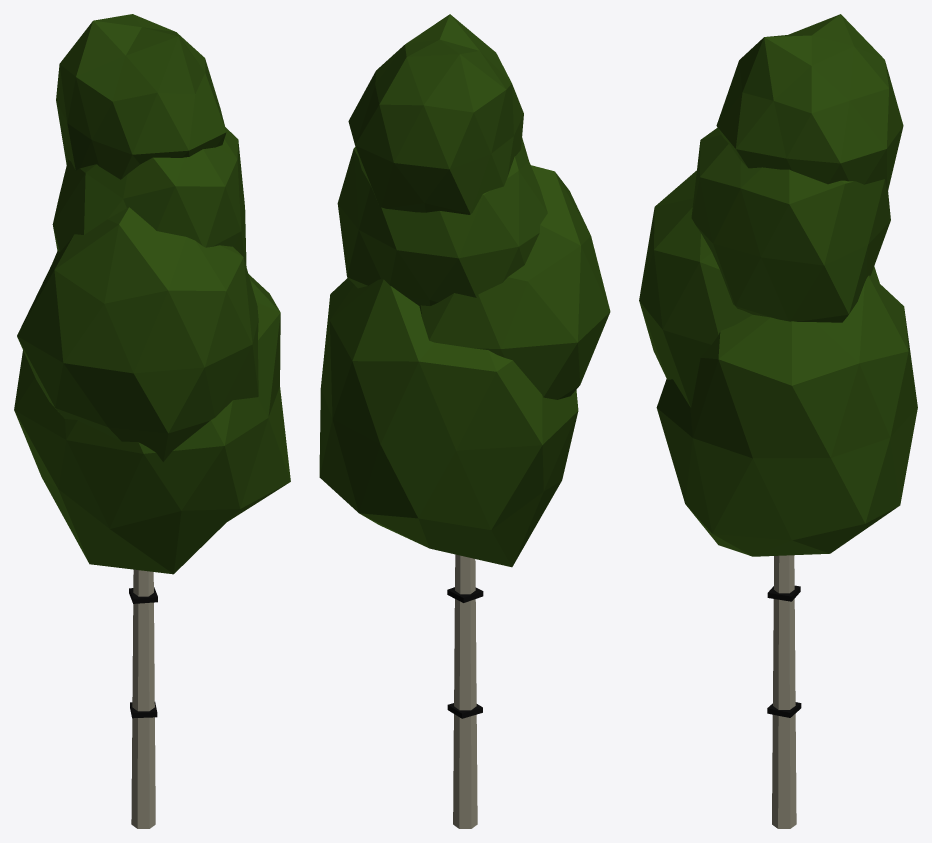
File: tree_birch.fbx
3 views of the same model, side by side, from view 1: azimuth 30°, elevation 25°; view 2: azimuth 150°, elevation 25°; view 3: azimuth 270°, elevation 25° (orthographic).
Parts seen in each view (by area): view 1: tree_birch; view 2: tree_birch; view 3: tree_birch.
Part boxes in pixels (x1,y1,x2,y2): tree_birch: (14,14,290,828); tree_birch: (319,14,610,828); tree_birch: (639,14,917,828).
Bounding box in the file's own units: 3.07 × 9.3 × 2.94.
